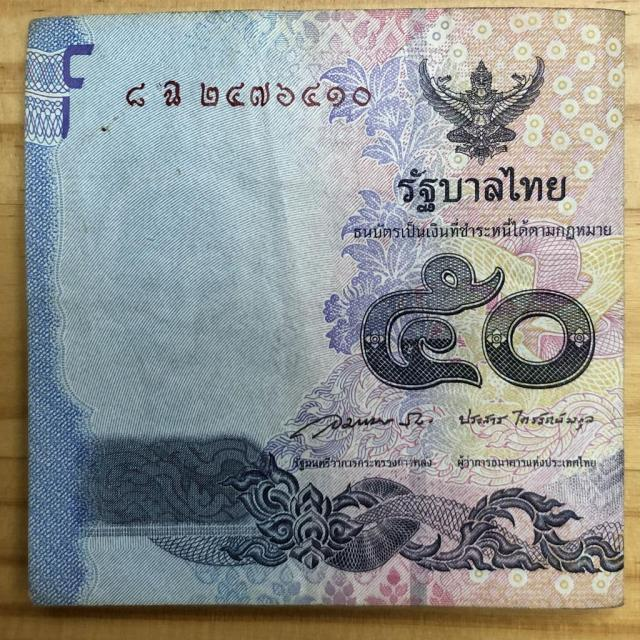THAI50: (25, 8, 626, 609)
